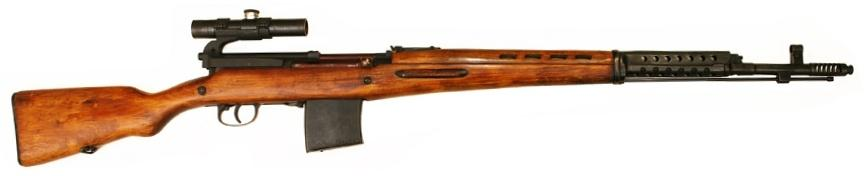blood: (3, 7, 866, 158)
